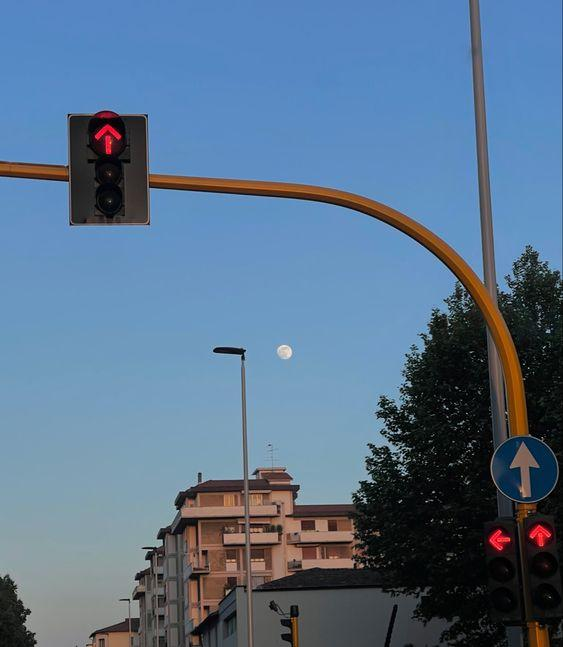red: (48, 92, 202, 262)
